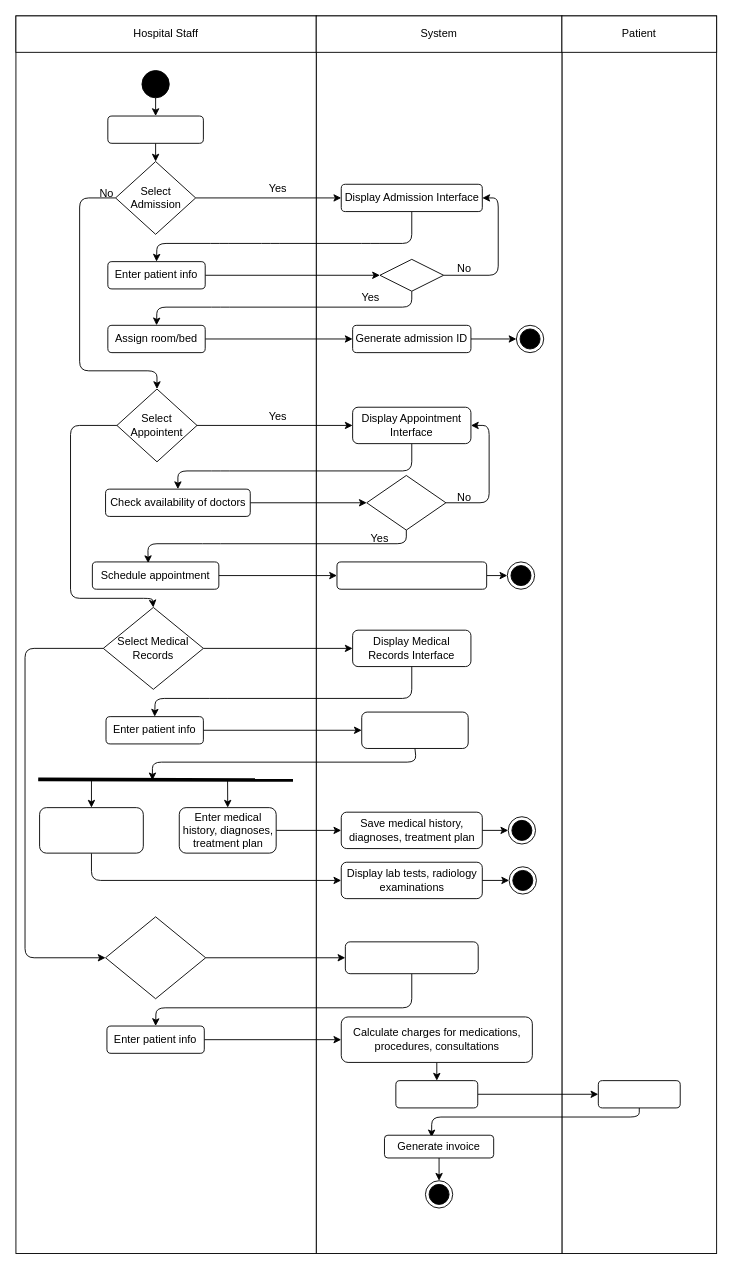
Image size: 733x1269. Some labels were removed from this diagram. The box of each missing label's shape, as (x1, y1, x2, y2) in pixels:
Display bill: (395, 1080, 478, 1108)
Display Billings Interface: (344, 941, 478, 974)
Display patient medical records: (361, 711, 468, 748)
Doctor available: (366, 475, 446, 530)
Logs into system: (107, 115, 203, 143)
Make payment: (597, 1080, 680, 1108)
Request lab tests, radiology examinations: (39, 807, 143, 853)
Select Billings: (105, 916, 206, 999)
Send appointment reminder: (336, 561, 487, 589)
Valid: (379, 258, 444, 291)
